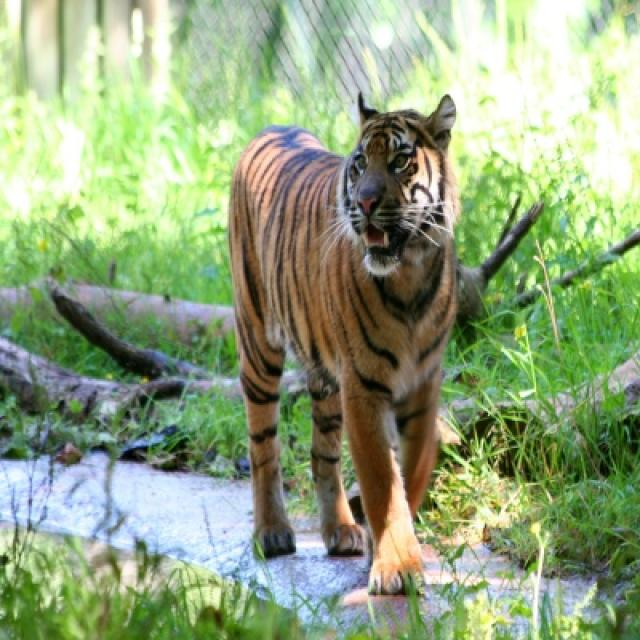Tiger: (229, 88, 458, 594)
